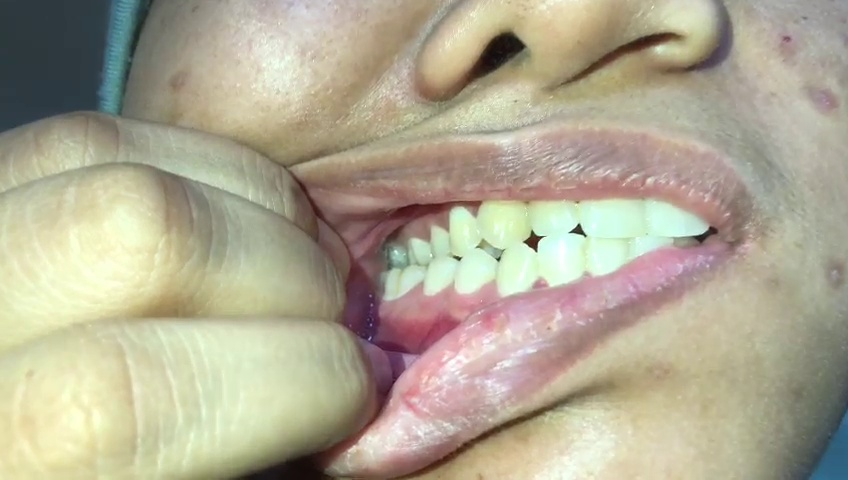1st Molar: (399, 265, 424, 301), (410, 235, 430, 265)
1st Premolar: (456, 245, 495, 296), (450, 203, 481, 259)
2nd Molar: (383, 268, 401, 301), (387, 242, 405, 267)
2nd Premolar: (424, 257, 457, 298), (430, 226, 450, 263)
Canine: (477, 190, 532, 249), (495, 244, 536, 299)
Lateral Incisor: (537, 233, 584, 289)
